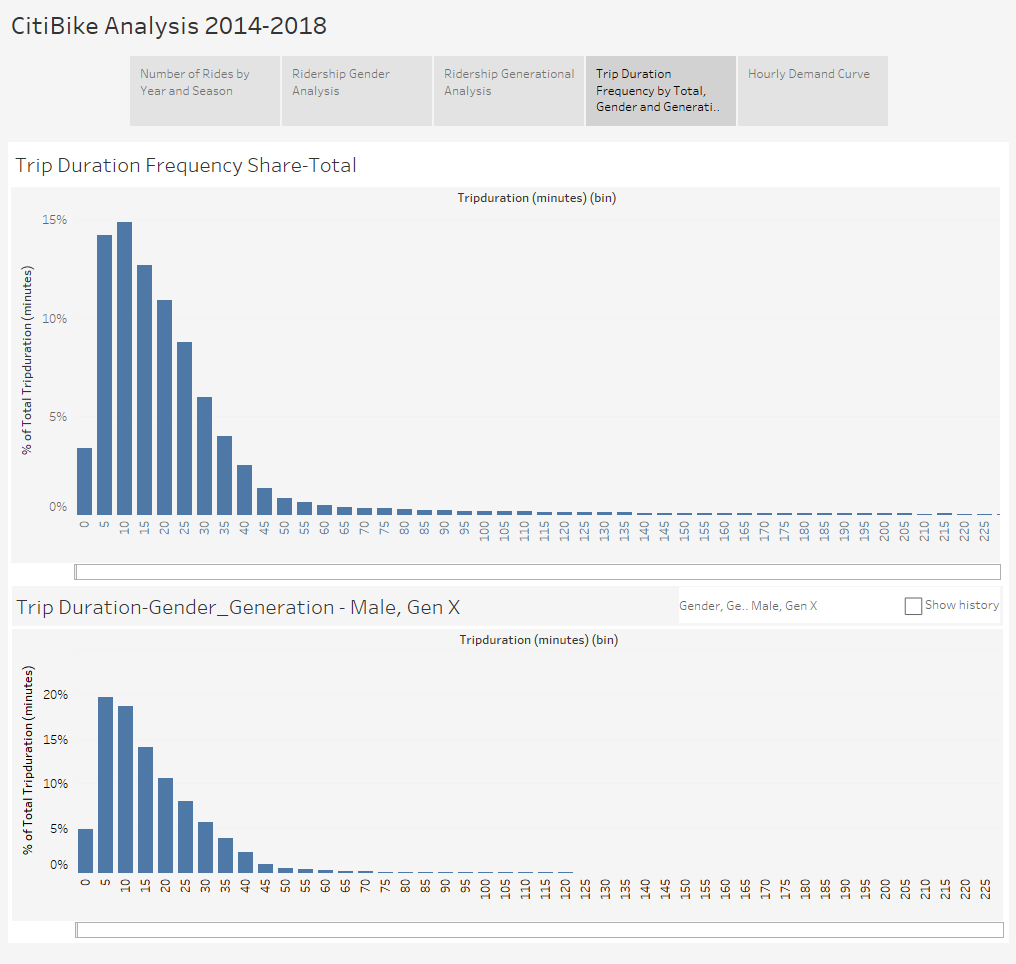

The dashboard page shown, as its layout file describes it:
{"tool":"tableau","page":{"name":"Dashboard 5","canvas":[1000,800],"ordinal":3},"visuals":[{"type":"worksheet","title":"Trip Duration","mark":"Automatic","rows":["Calculation_1244963875041136640"],"cols":["Tripduration (minutes) (bin)"],"box":[3,2,989,436]},{"type":"worksheet","title":"Trip Duration-Gender_Generation","mark":"Automatic","rows":["Calculation_1244963875041136640"],"cols":["Tripduration (minutes) (bin)"],"box":[4,444,991,352]},{"type":"currpage","title":"Trip Duration-Gender_Generation","box":[671,445,321,36]}]}

Visuals, with their boxes on the page's 1000x800 design canvas (x1, y1, x2, y2). These are canvas units, not pixel positions in the 1016x964 screenshot, which may show the page scaled, cropped or inside an application window:
"Trip Duration" worksheet: bbox(3, 2, 992, 438)
"Trip Duration-Gender_Generation" worksheet: bbox(4, 444, 995, 796)
"Trip Duration-Gender_Generation" currpage: bbox(671, 445, 992, 481)
